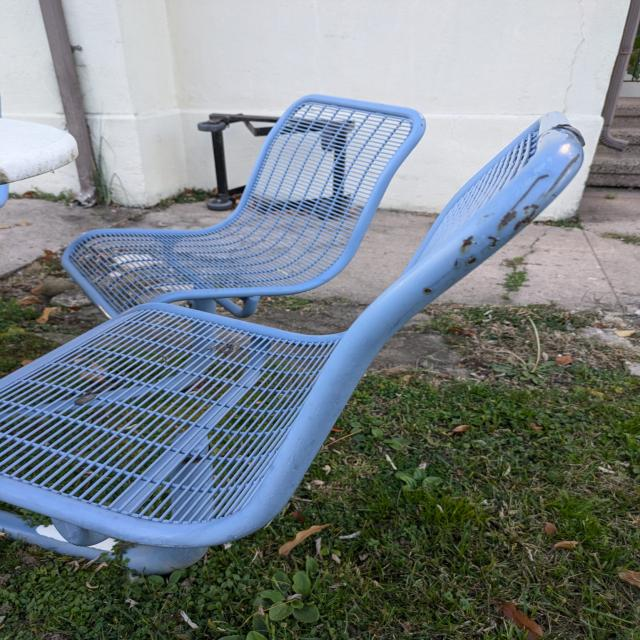Filiform Corrosion: (416, 131, 582, 310)
